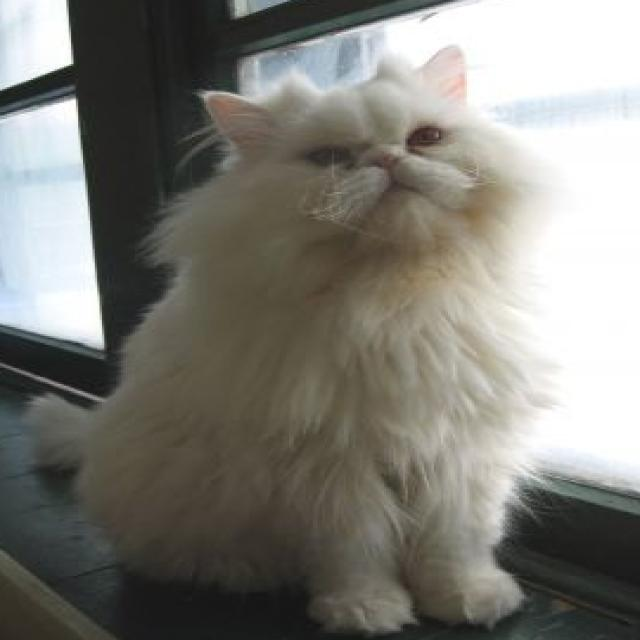Persian: (12, 32, 559, 640)
